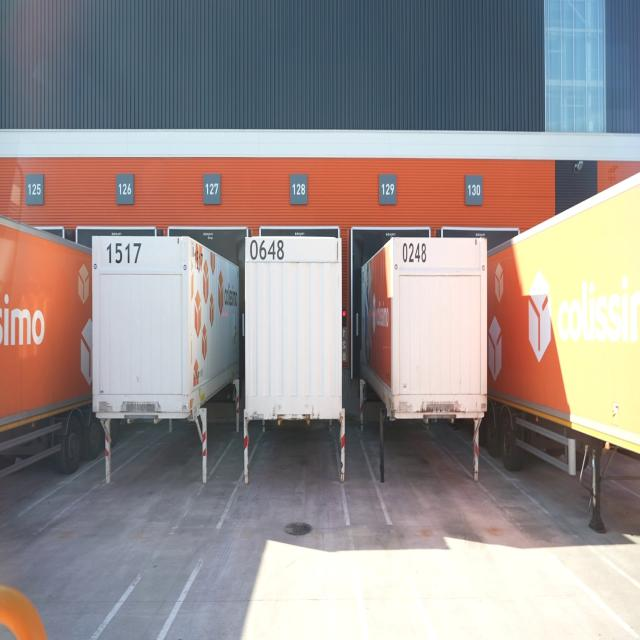Code: (103, 240, 144, 266), (400, 236, 429, 267), (250, 237, 284, 263)
